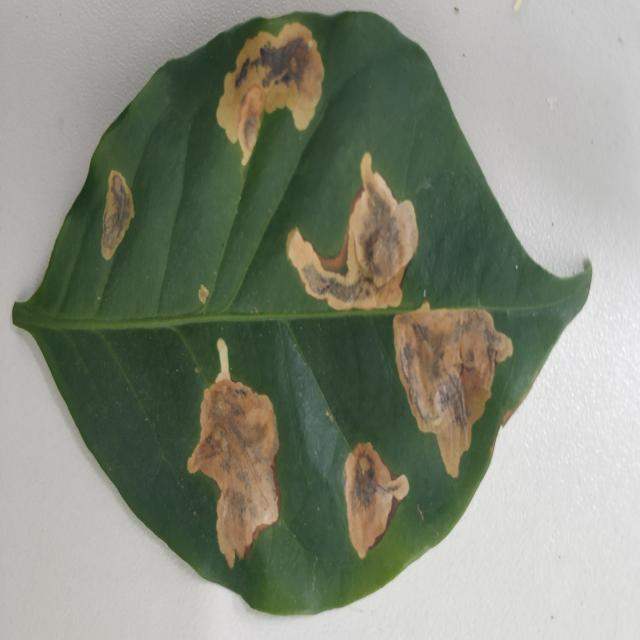Plaga-Minador: (11, 11, 595, 620)
